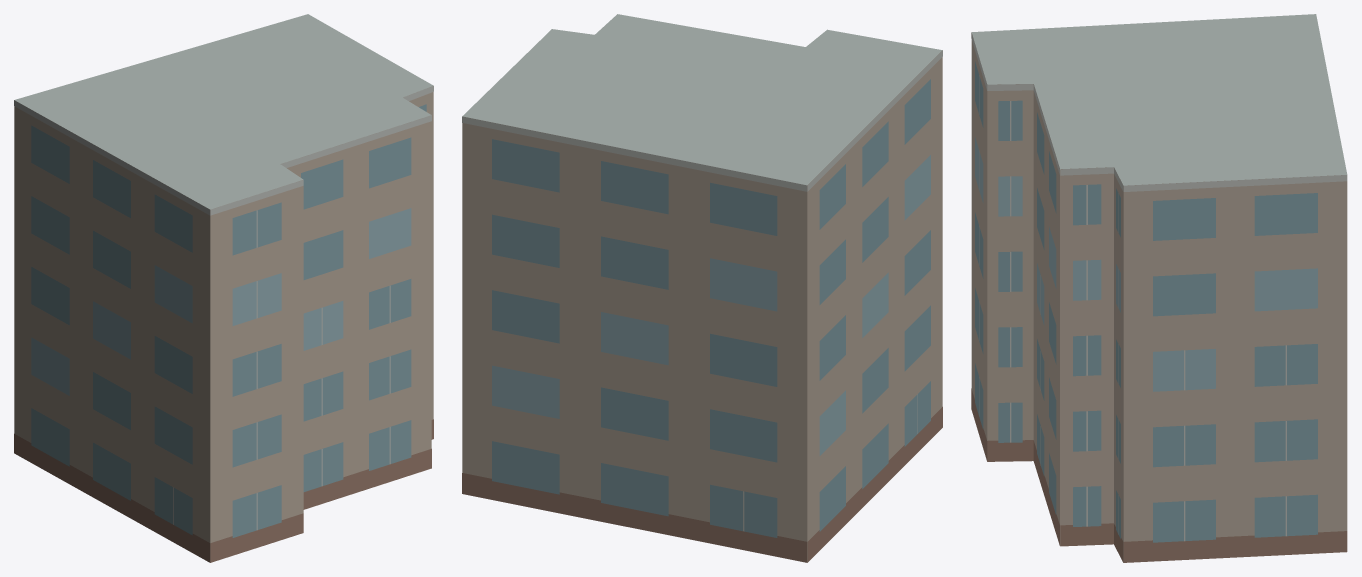
Rendered from survey-upis-32547634.glb.
3 renders of one model, left to right at view 1: azimuth 30°, elevation 25°; view 2: azimuth 150°, elevation 25°; view 3: azimuth 270°, elevation 25°, orthographic. The views are drawn at different scales.
Parts seen in each view (by area): view 1: survey-upis-32547634.tmp; view 2: survey-upis-32547634.tmp; view 3: survey-upis-32547634.tmp.
Part boxes in pixels (x1,y1,x2,y2): survey-upis-32547634.tmp: (14,14,433,562); survey-upis-32547634.tmp: (462,14,942,562); survey-upis-32547634.tmp: (971,14,1347,562).
Size of the model in its own units: 13.87 by 14.2 by 12.83.
